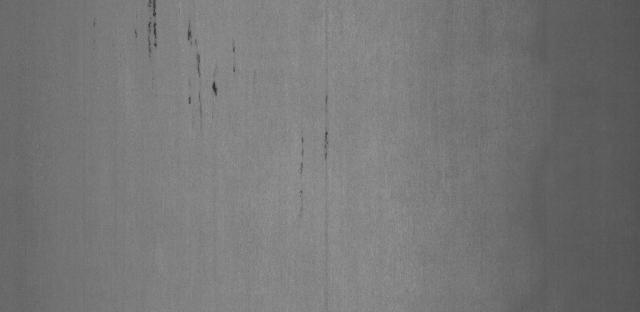inclusion: (178, 20, 242, 122), (294, 92, 334, 215), (140, 0, 164, 58)
